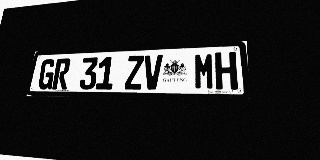1: (95, 56, 115, 90)
3: (79, 57, 98, 90)
G: (37, 59, 56, 90)
H: (215, 52, 238, 90)
M: (194, 52, 215, 90)
R: (52, 58, 71, 90)
V: (143, 55, 163, 90)
Z: (124, 55, 144, 90)
